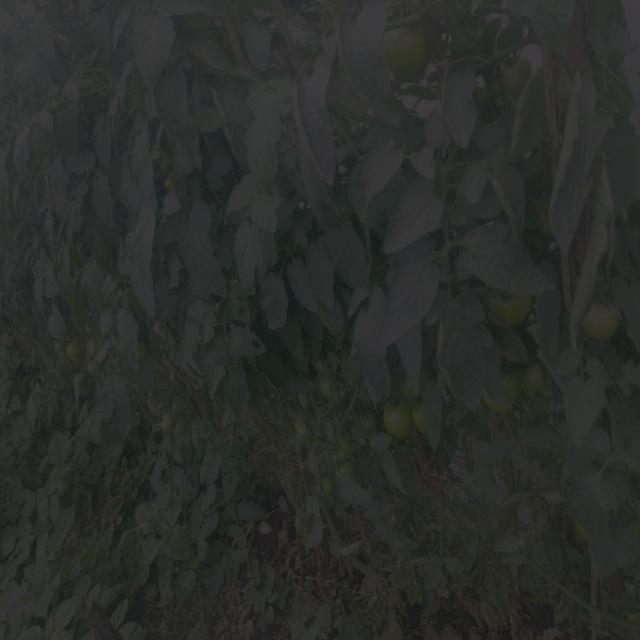tomato: (385, 24, 431, 86), (488, 293, 543, 327), (588, 299, 624, 345), (380, 397, 414, 445), (315, 371, 346, 404), (501, 53, 526, 91), (530, 367, 559, 399), (411, 399, 430, 435), (167, 401, 190, 430), (59, 336, 81, 362), (324, 473, 346, 499), (336, 437, 355, 460), (508, 372, 528, 392), (293, 411, 311, 432)
